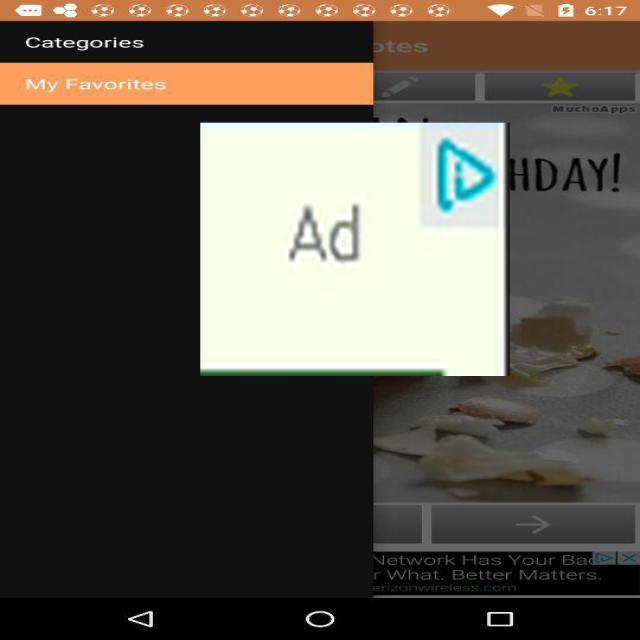sneaking: (200, 123, 510, 376)
